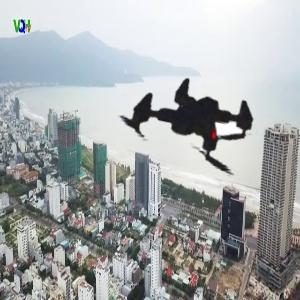drone: (92, 33, 288, 229)
